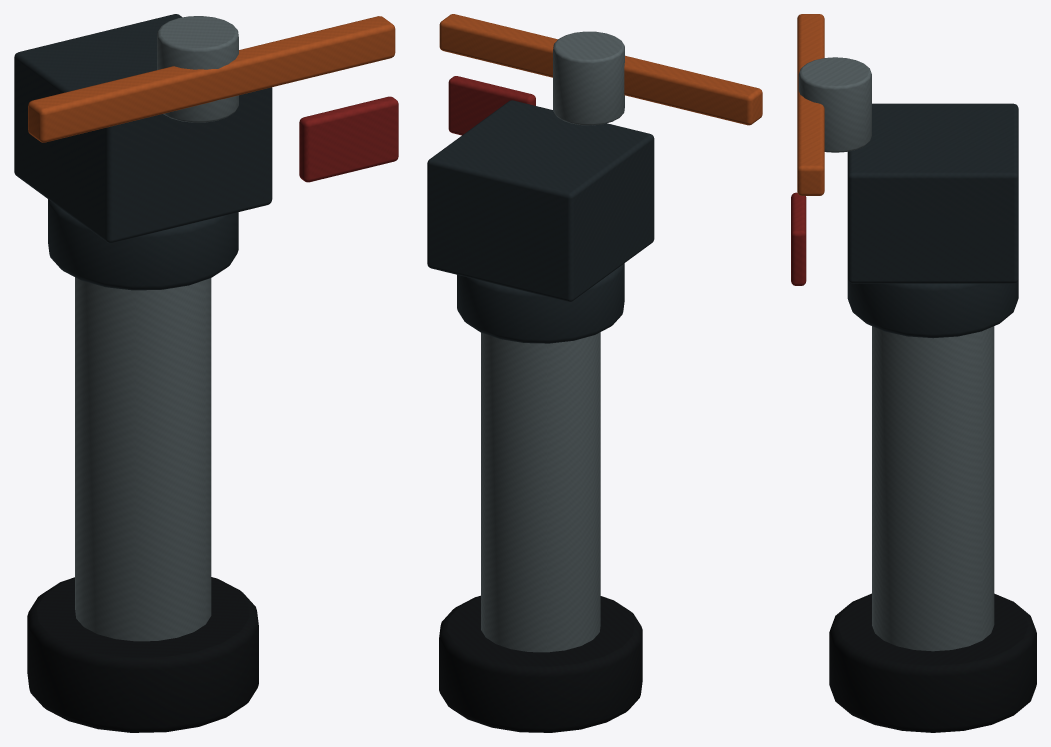
File: EmergencyShutoffValve.fbx
3 renders of one model, left to right at view 1: azimuth 30°, elevation 25°; view 2: azimuth 150°, elevation 25°; view 3: azimuth 270°, elevation 25°, orthographic. The views are drawn at different scales.
Visible parts, largest first — view 1: EmergencyShutoffValve_Mesh; view 2: EmergencyShutoffValve_Mesh; view 3: EmergencyShutoffValve_Mesh.
Part boxes in pixels (x1=…): EmergencyShutoffValve_Mesh: x1=14, y1=14, x2=398, y2=732; EmergencyShutoffValve_Mesh: x1=427, y1=14, x2=762, y2=732; EmergencyShutoffValve_Mesh: x1=791, y1=14, x2=1036, y2=732.
Bounding box in the file's own units: 60 × 114 × 40.25.
